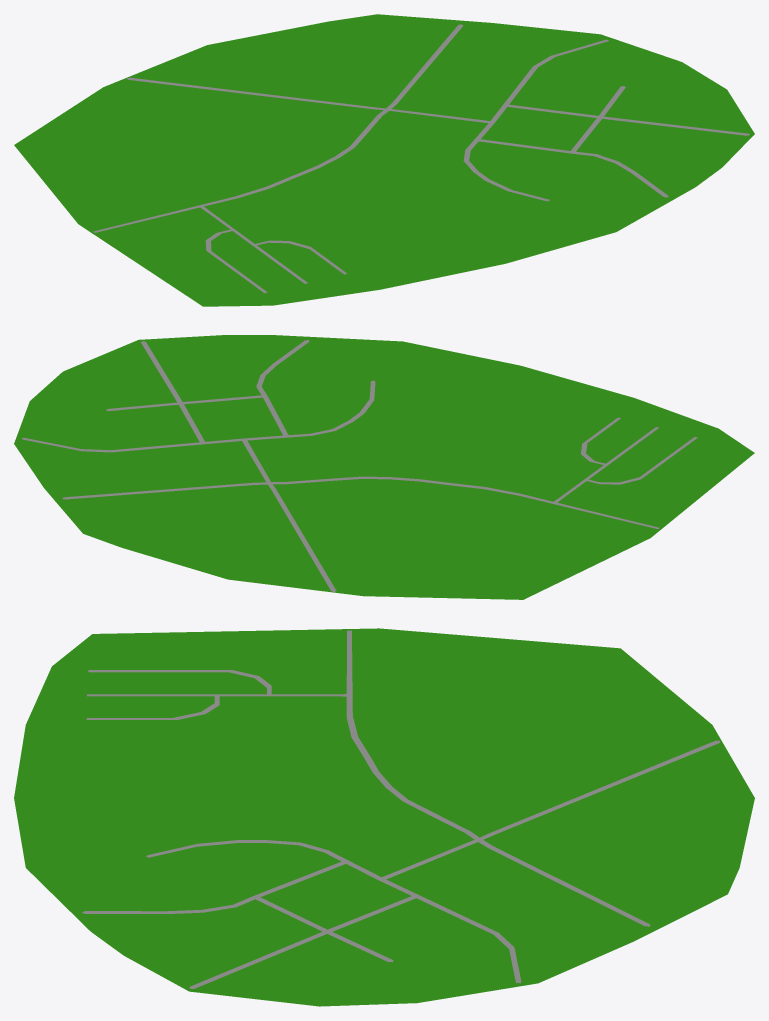
The model's file is plot_racebanastad.fbx.
The picture shows the model from 3 angles, top to bottom: view 1: azimuth 30°, elevation 25°; view 2: azimuth 150°, elevation 25°; view 3: azimuth 270°, elevation 25°; orthographic projection. The views are drawn at different scales.
Visible parts, largest first — view 1: Plane.001, Road; view 2: Plane.001, Road; view 3: Plane.001, Road.
Part boxes in pixels (left/top/right/bottom): Plane.001: left=14, top=14, right=754, bottom=306; Road: left=93, top=24, right=749, bottom=293; Plane.001: left=14, top=335, right=754, bottom=599; Road: left=21, top=340, right=697, bottom=592; Plane.001: left=14, top=628, right=754, bottom=1006; Road: left=82, top=630, right=720, bottom=988.
Size of the model in its own units: 1279 by 0.2709 by 1059.
